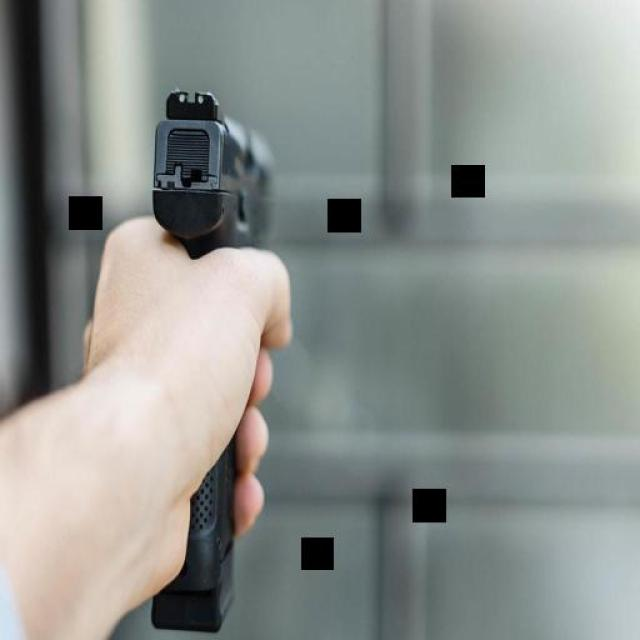gun: (142, 84, 274, 635)
